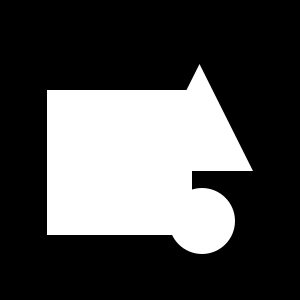circle: (47, 90, 192, 235), (142, 186, 190, 234)
rectangle: (169, 188, 235, 254)
triangle: (146, 64, 253, 171)
